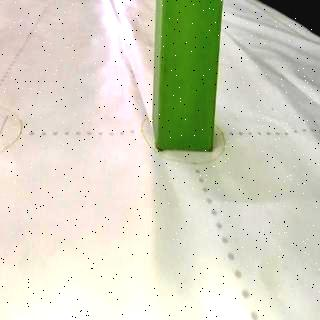greenbox: (153, 0, 225, 153)
